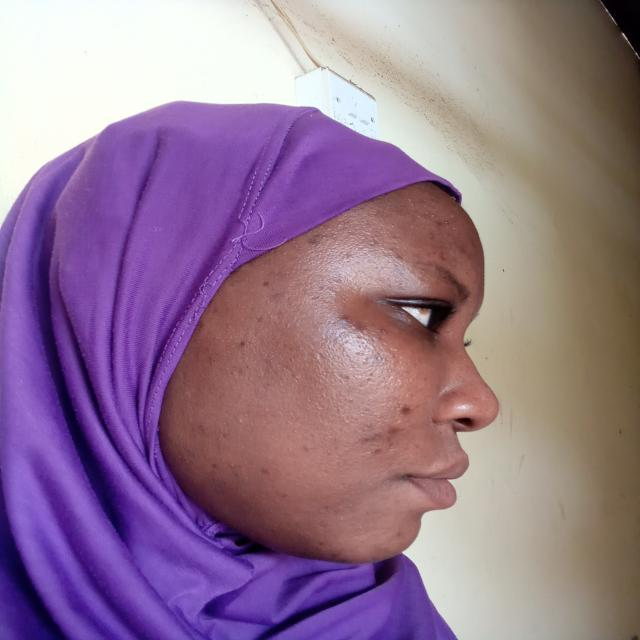Acne: (340, 315, 385, 342), (360, 433, 387, 455), (308, 231, 326, 246), (397, 404, 415, 417), (385, 427, 406, 438), (193, 422, 208, 436), (256, 466, 274, 476), (258, 278, 274, 289), (427, 210, 443, 220), (413, 439, 426, 451), (400, 194, 414, 204), (236, 338, 249, 348), (411, 213, 424, 223), (331, 550, 346, 558), (312, 538, 327, 546), (210, 462, 223, 470), (392, 530, 406, 536), (446, 222, 455, 230)
Englarged-Pores: (314, 346, 391, 409)
Eyebags: (394, 332, 445, 346)
